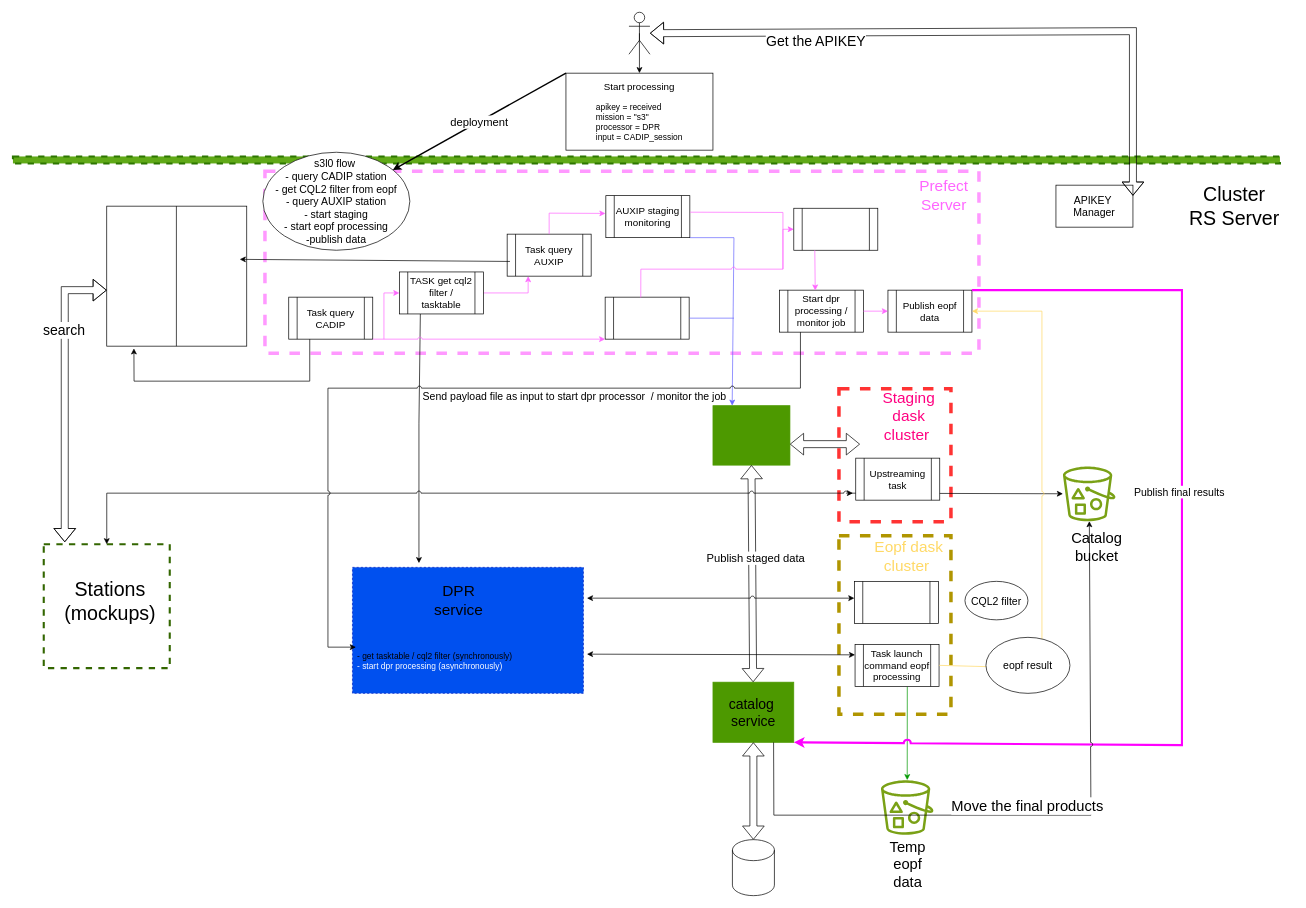
Image size: 1306x908. Some labels were removed from this diagram. The shapes that lost their labels are listed below. From the top down, each one's box as (x1, y1, x2, y2) in pixels, then its label:
(628, 12, 650, 54): User
(793, 208, 878, 250): Create eopf payload file
(106, 205, 247, 346): CADIP ADGS Server Server
(604, 296, 689, 339): CADIP staging monitoring
(712, 405, 790, 465): staging service
(854, 581, 938, 623): Task launch command get cql2 filter
(732, 839, 774, 896): Catalog DB
